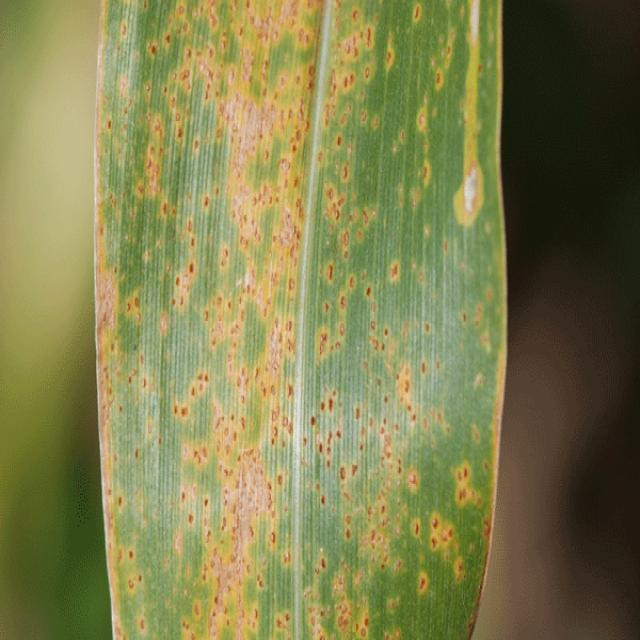Corn_Rust: (91, 0, 506, 640)
